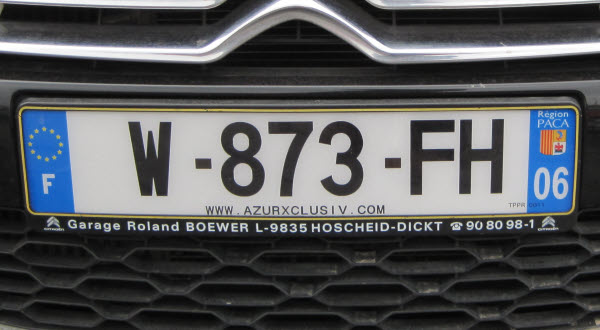license_plate: (17, 105, 580, 222)
